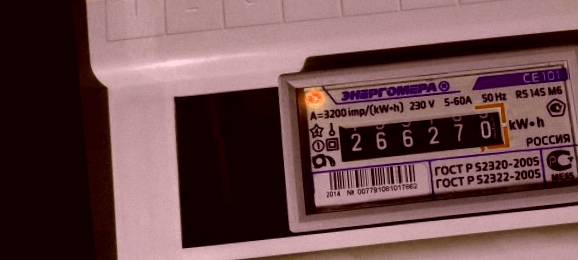0: (477, 118, 492, 139)
2: (347, 131, 364, 153), (425, 124, 441, 145)
6: (373, 129, 388, 151), (400, 128, 415, 149)
7: (451, 122, 464, 142)
screen: (328, 99, 516, 169)
